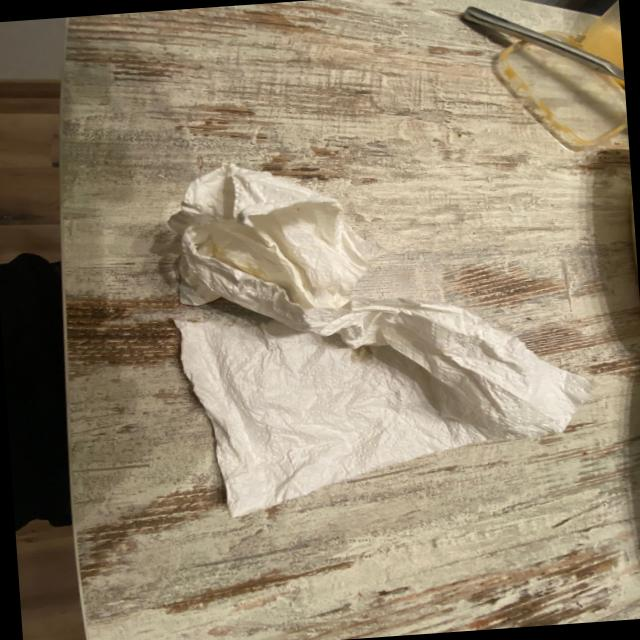organic waste: (158, 137, 610, 524)
